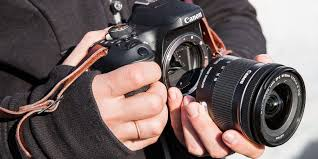camera: (102, 4, 305, 147)
